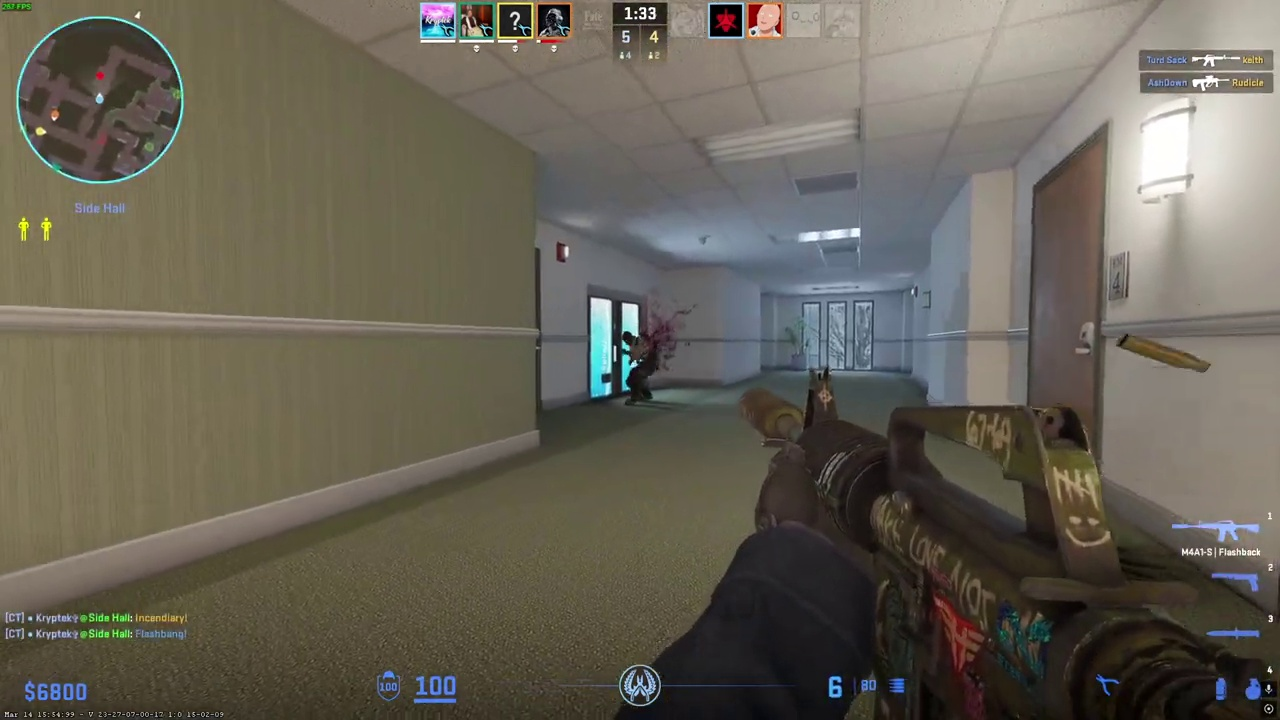Terrorist: (620, 331, 656, 404)
